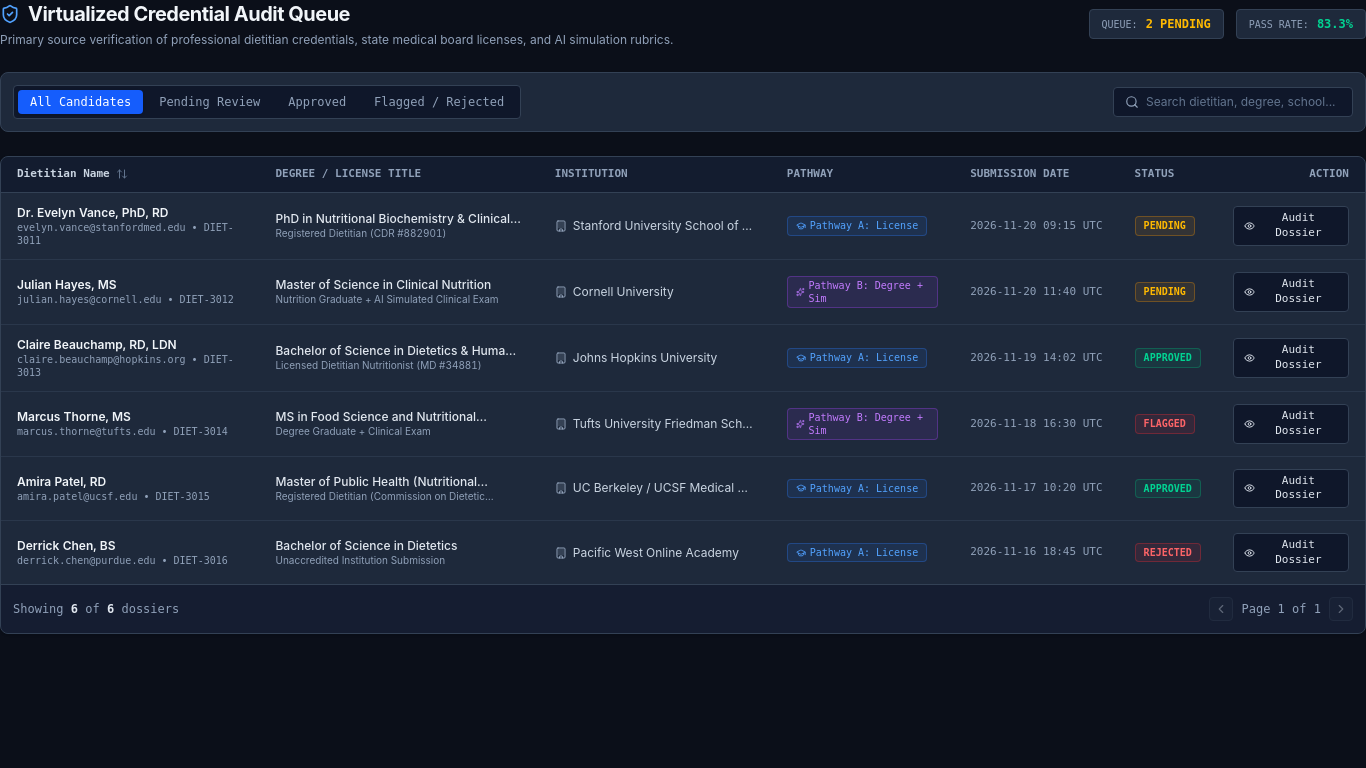
Test case: Credential Audit Queue › opens inspection drawer with degree thumbnail, license expiry, and AI rubric on Audit Dossier click
This screenshot has width=1366, height=768.
// Audit Julian Hayes (Pathway B: Degree + Simulation)
Click the button with test id "audit-dossier-btn-VER-9012" at (1291, 292), box top-left (1233, 272), bottom-right (1349, 312)
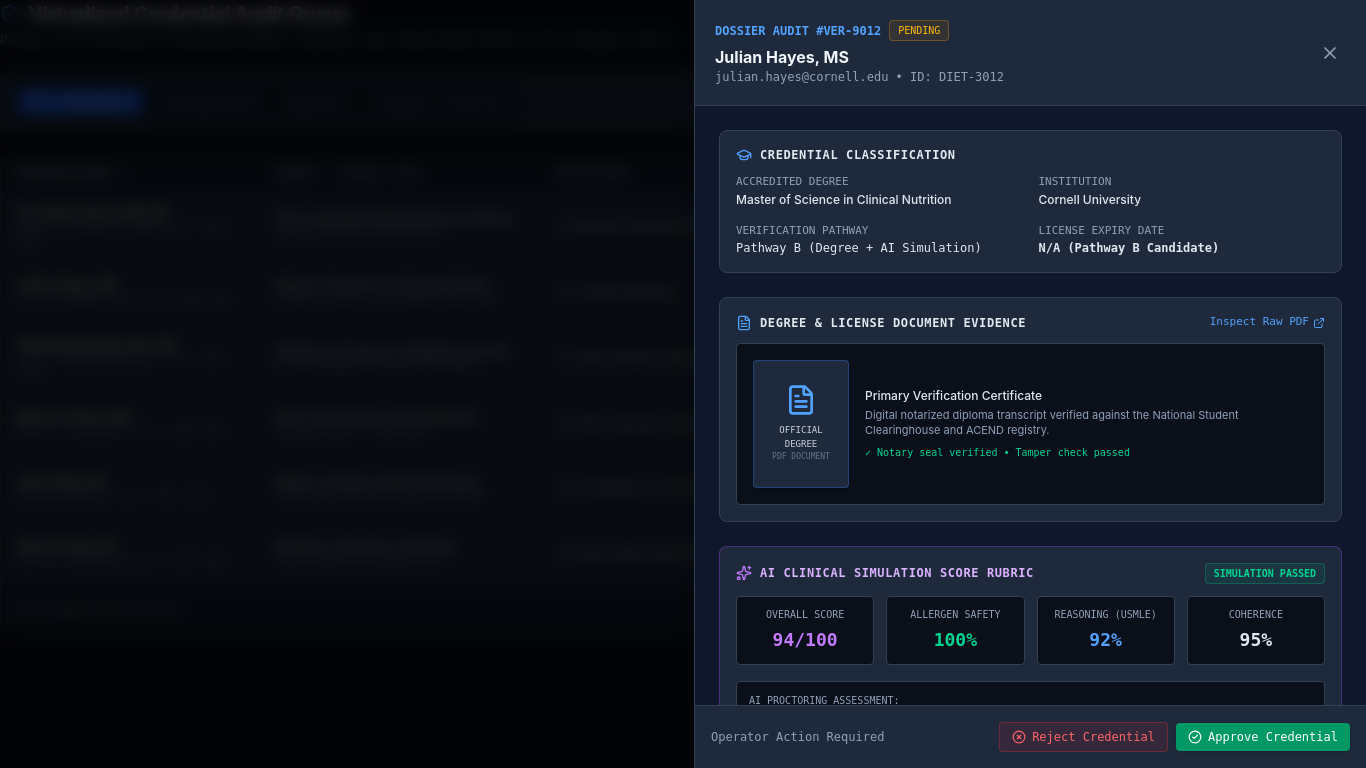
Expected: the element with test id "audit-dossier-drawer" is shown
Expected: the text "Dossier Audit #VER-9012" is shown, top-left (715, 22), bottom-right (881, 38)
Expected: the element with test id "degree-preview-thumbnail" is shown, top-left (736, 343), bottom-right (1325, 505)
// Close drawer
Click the button with test id "close-dossier-drawer" at (1330, 52), box top-left (1314, 36), bottom-right (1346, 68)
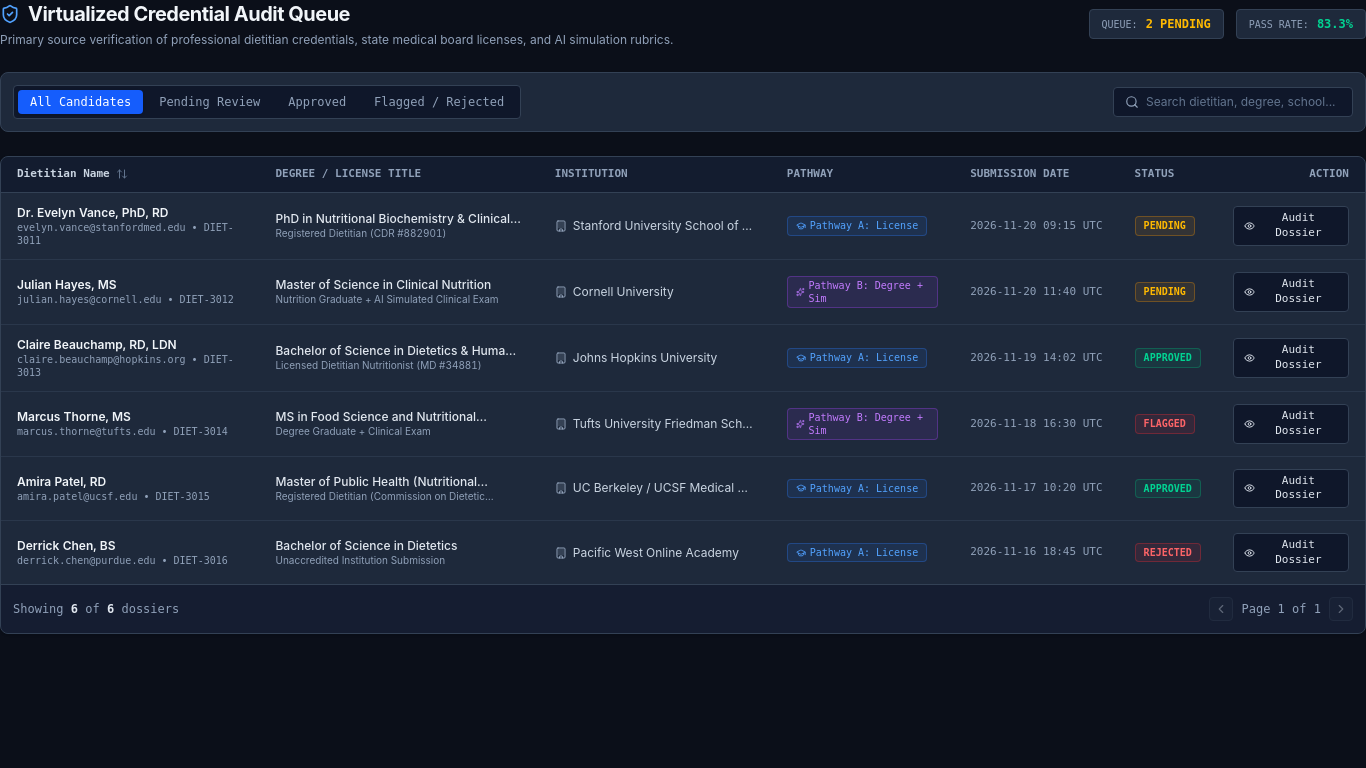
Expected: the element with test id "audit-dossier-drawer" is gone
